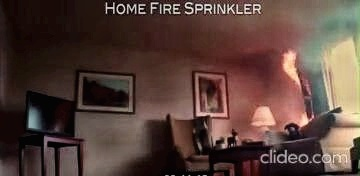fire: (263, 36, 308, 94)
